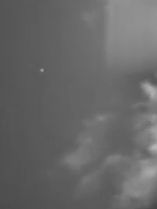Target: (37, 66, 46, 75)
